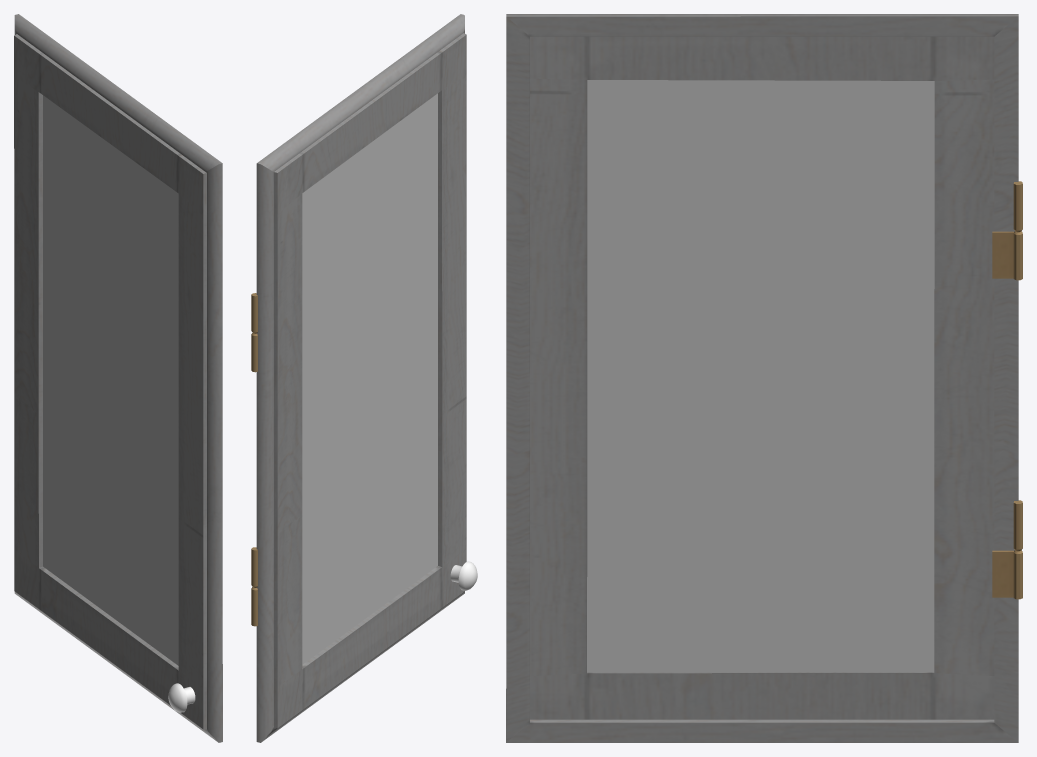
Rendered from SM_Cabinet_D1_Door1.fbx.
The picture shows the model from 3 angles, left to right: view 1: azimuth 30°, elevation 25°; view 2: azimuth 150°, elevation 25°; view 3: azimuth 270°, elevation 25°; orthographic projection. The views are drawn at different scales.
Visible parts, largest first — view 1: SM_Cabinet_D1_Door1; view 2: SM_Cabinet_D1_Door1; view 3: SM_Cabinet_D1_Door1.
Boxes of the visible parts, bbox=[...] form: SM_Cabinet_D1_Door1: bbox=[14, 14, 222, 742]; SM_Cabinet_D1_Door1: bbox=[251, 14, 477, 742]; SM_Cabinet_D1_Door1: bbox=[506, 14, 1022, 742].
Bounding box in the file's own units: 4.37 × 40.64 × 63.05.
4 materials, 3 textured.
